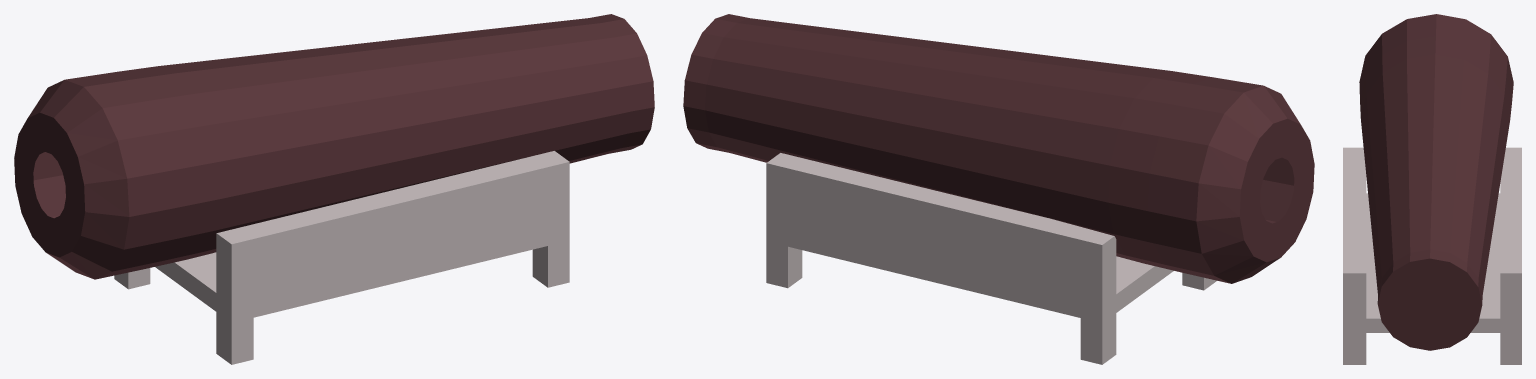
The model's file is paotai.fbx.
3 renders of one model, left to right at view 1: azimuth 30°, elevation 25°; view 2: azimuth 150°, elevation 25°; view 3: azimuth 270°, elevation 25°, orthographic. The views are drawn at different scales.
Visible parts, largest first — view 1: 大炮, 炮台; view 2: 大炮, 炮台; view 3: 大炮, 炮台.
Boxes of the visible parts, x1,y1,x2,y2 form: 大炮: (14,14,654,279); 炮台: (114,151,569,364); 大炮: (683,14,1314,283); 炮台: (766,153,1216,364); 大炮: (1359,14,1513,350); 炮台: (1343,147,1521,364).
Size of the model in its own units: 6374 by 2695 by 2257.
